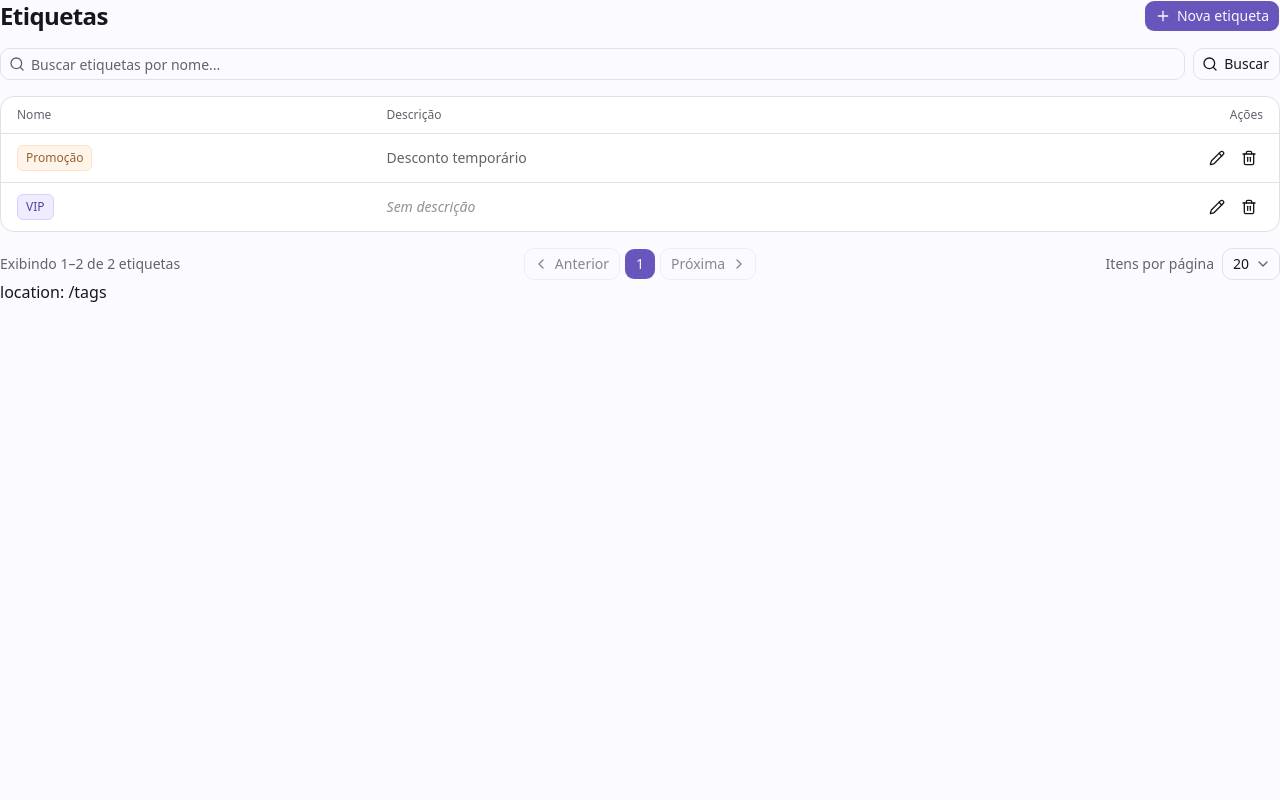
Test: TagFormPage › edit mode (/tags/:id/edit) › closes back to the list when Cancelar is clicked while still loading
Expected: the text "Promoção" is shown, [17,145,92,171]
Click the link named "Editar Promoção" at point(1217, 158), box [1209,150,1225,166]
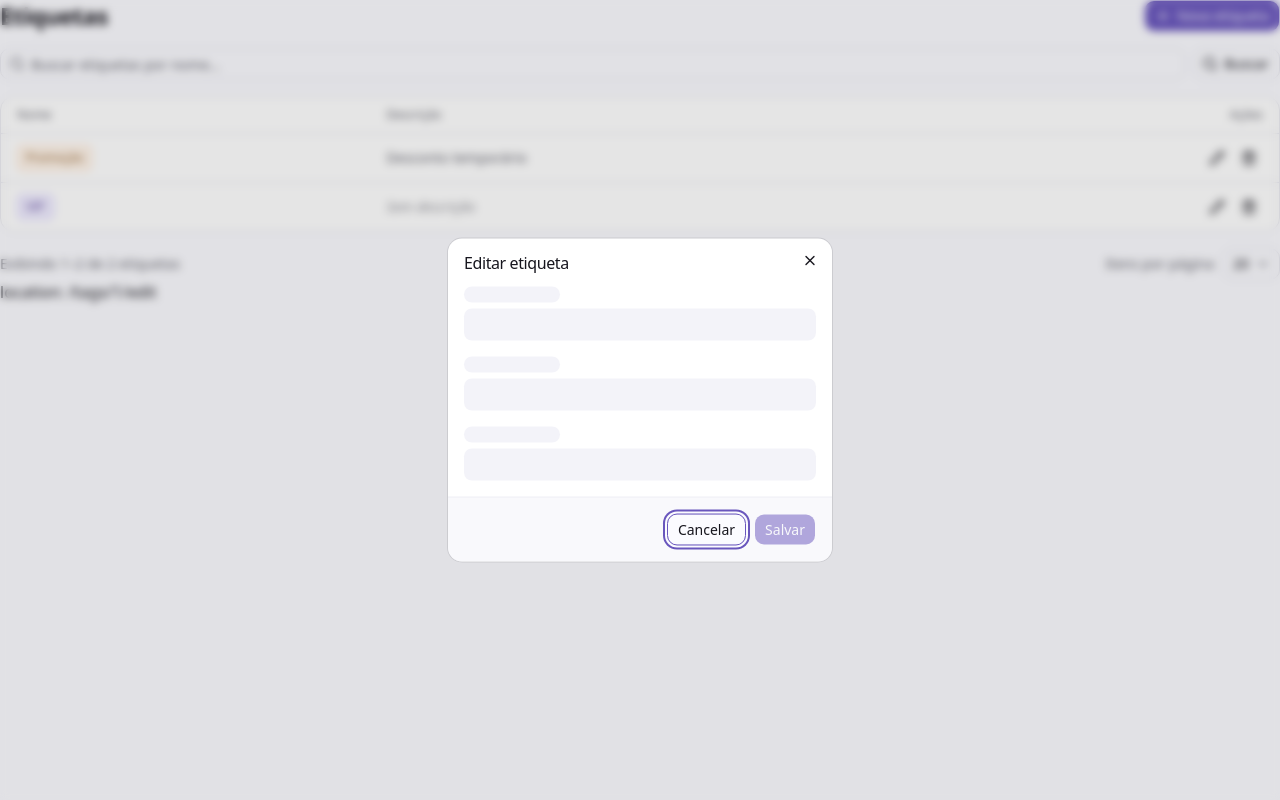
Result: the heading "Editar etiqueta" is shown at [464,252,569,274]
Click the button "Cancelar" at point(706, 530), box [667,514,746,546]
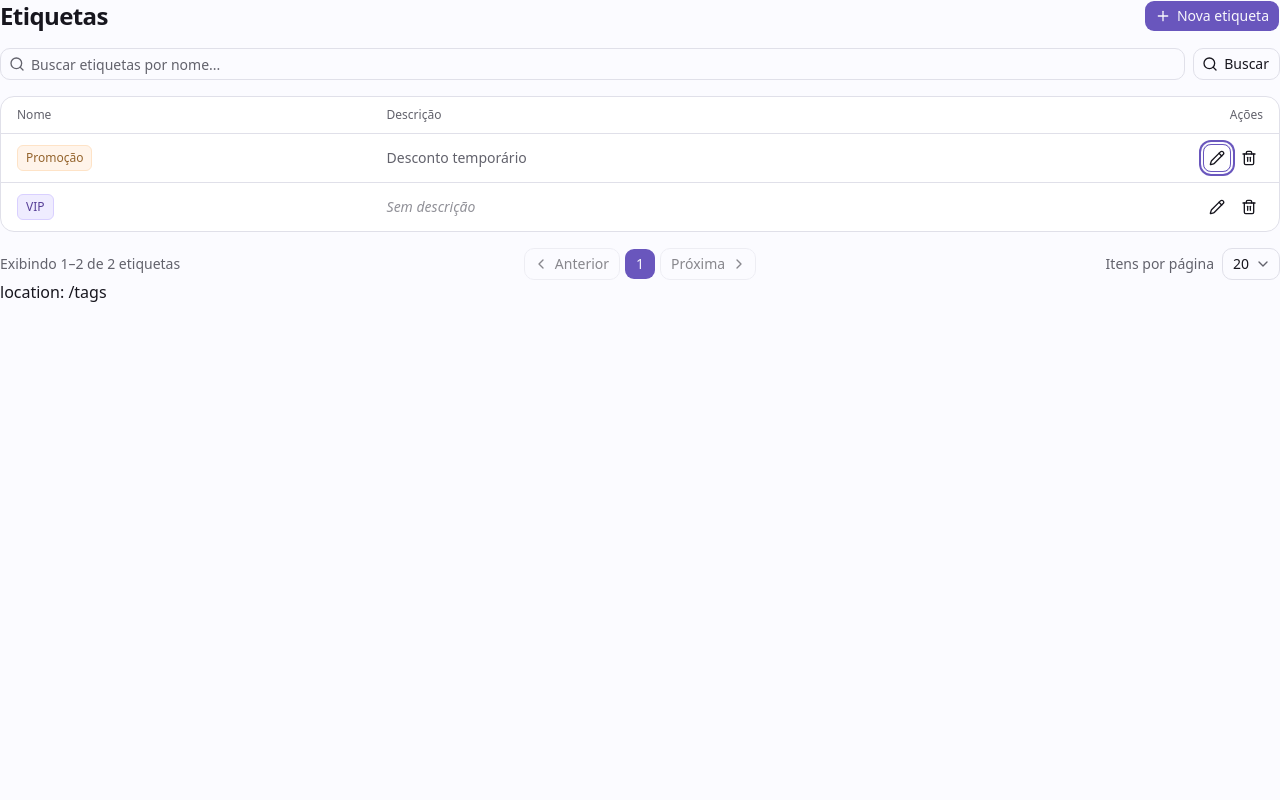
Result: the text with test id "location" reads "location: /tags" at [0,281,107,303]
